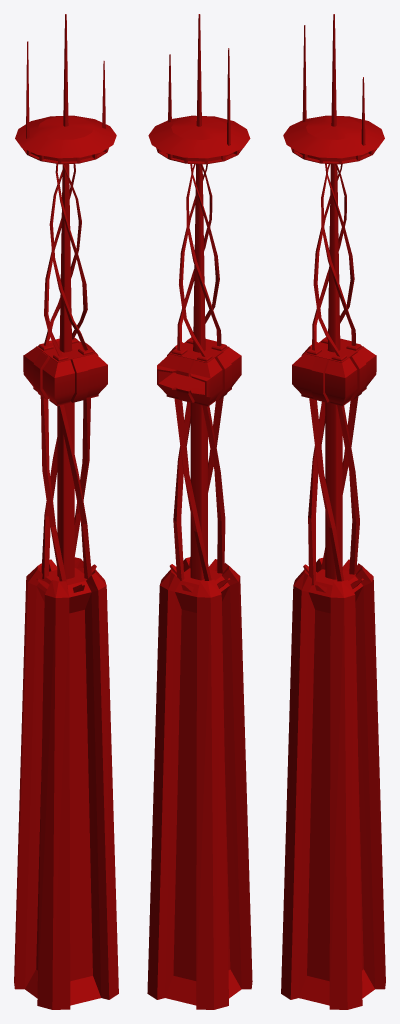
File: skytreev2.fbx
The picture shows the model from 3 angles, left to right: view 1: azimuth 30°, elevation 25°; view 2: azimuth 150°, elevation 25°; view 3: azimuth 330°, elevation 25°; orthographic projection.
Visible parts, largest first — view 1: pCube2, pCube1, pSphere1; view 2: pCube2, pCube1, pSphere1; view 3: pCube2, pCube1, pSphere1.
Boxes of the visible parts, <box> form: pCube2: <box>14,557,118,1009</box>; pCube1: <box>23,14,107,588</box>; pSphere1: <box>15,41,116,164</box>; pCube2: <box>147,557,252,1009</box>; pCube1: <box>157,14,241,580</box>; pSphere1: <box>148,48,250,164</box>; pCube2: <box>281,558,385,1009</box>; pCube1: <box>292,14,376,585</box>; pSphere1: <box>283,25,384,164</box>.
Bounding box in the file's own units: 44.53 × 468 × 43.42.
